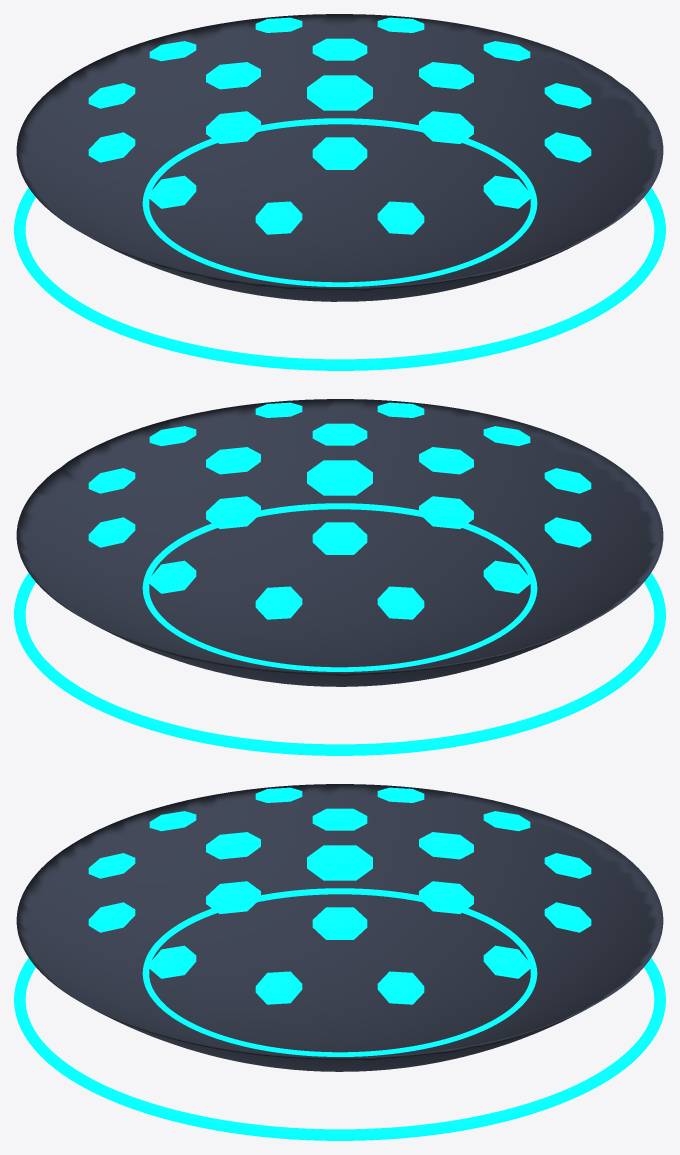
Rendered from shield_web.glb.
3 renders of one model, top to bottom at view 1: azimuth 30°, elevation 25°; view 2: azimuth 150°, elevation 25°; view 3: azimuth 270°, elevation 25°, orthographic.
Parts seen in each view (by area): view 1: Shield, Hexagons_Group, RimGlow, Hex_center; view 2: Shield, Hexagons_Group, RimGlow, Hex_center; view 3: Shield, Hexagons_Group, RimGlow, Hex_center.
Boxes of the visible parts, left/top/right/bottom form: Shield: left=16, top=14, right=663, bottom=301; Hexagons_Group: left=88, top=17, right=591, bottom=234; RimGlow: left=14, top=118, right=665, bottom=370; Hex_center: left=307, top=75, right=372, bottom=110; Shield: left=16, top=399, right=663, bottom=686; Hexagons_Group: left=88, top=402, right=591, bottom=619; RimGlow: left=14, top=503, right=665, bottom=755; Hex_center: left=307, top=460, right=372, bottom=495; Shield: left=16, top=784, right=663, bottom=1071; Hexagons_Group: left=88, top=787, right=591, bottom=1004; RimGlow: left=14, top=888, right=665, bottom=1140; Hex_center: left=307, top=845, right=372, bottom=880.
Size of the model in its own units: 2.02 by 0.5658 by 2.02.
